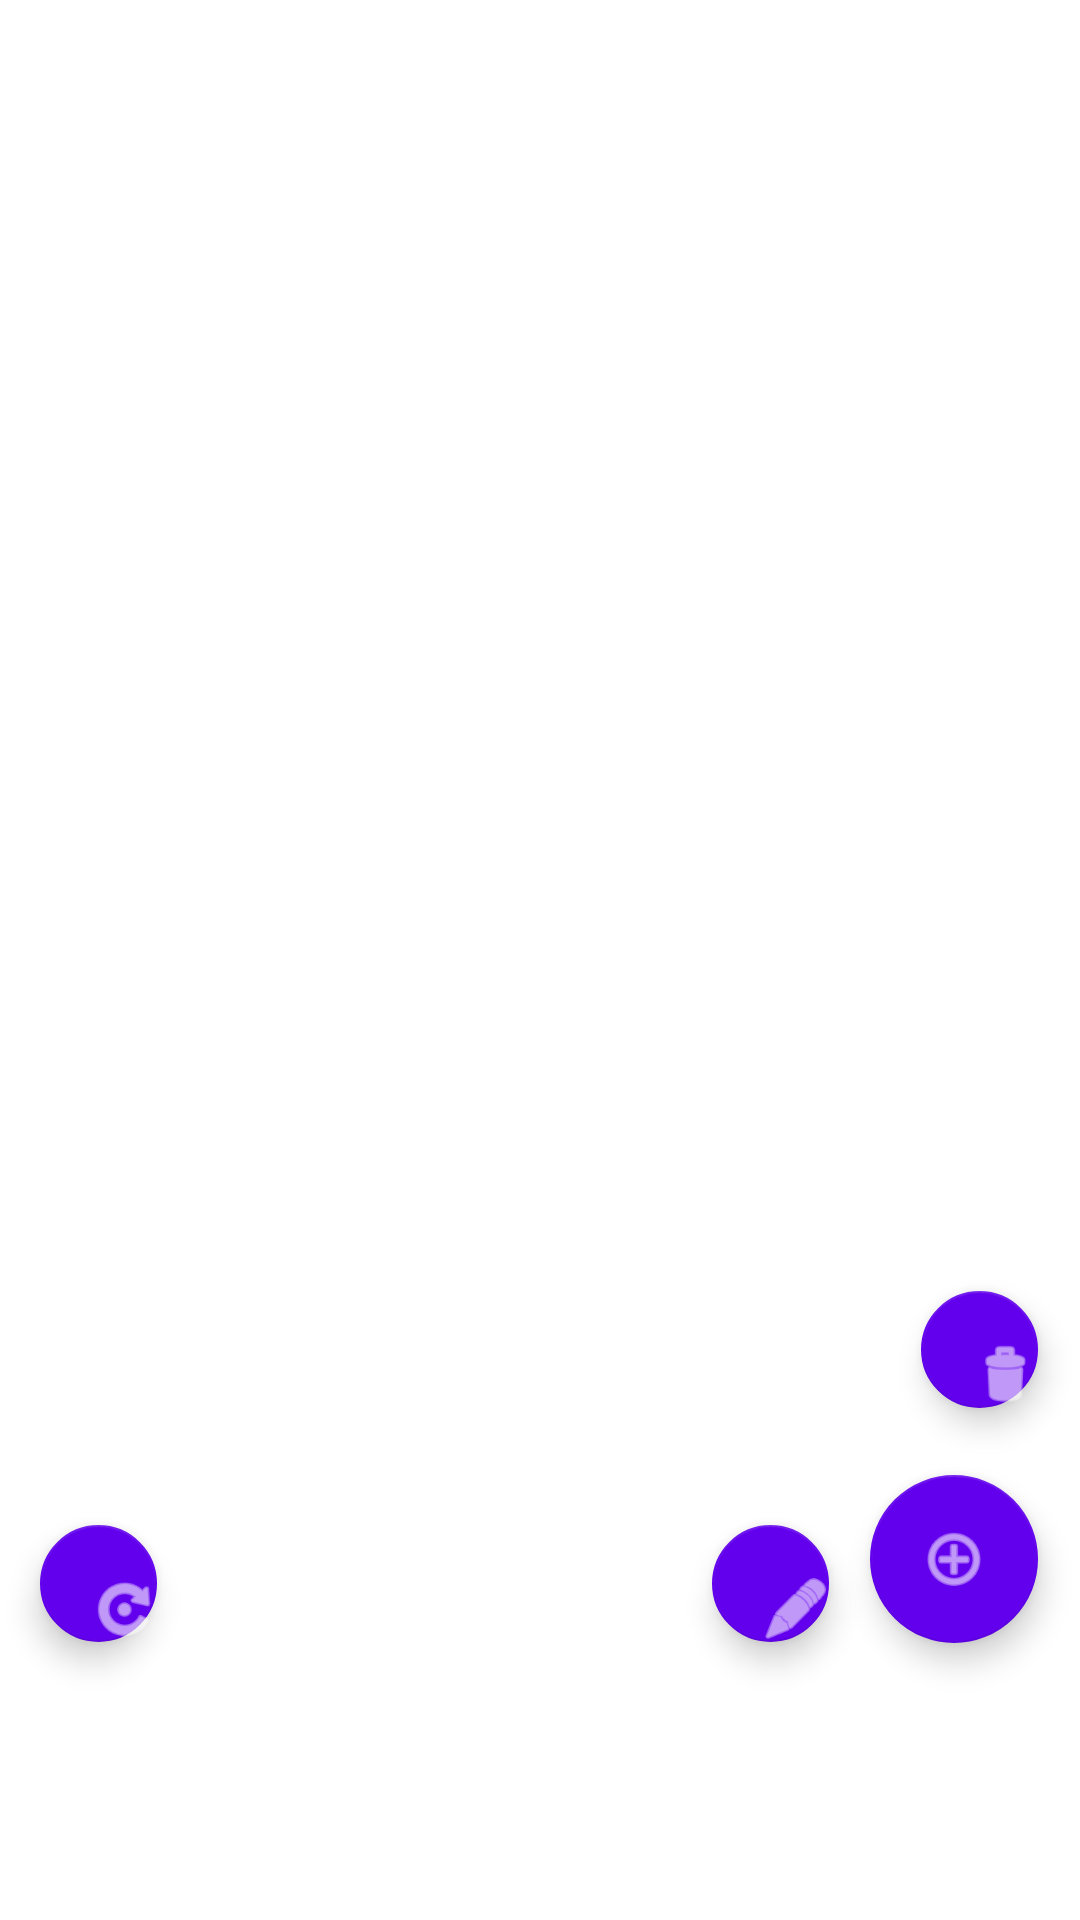

Icon bounding boxes for this 1080*1920 phone screenshot, format (x1, y1, x2, y2):
add: (870, 1475, 1038, 1643)
delete: (921, 1291, 1038, 1408)
edit: (712, 1525, 829, 1642)
rotate: (40, 1525, 157, 1642)
